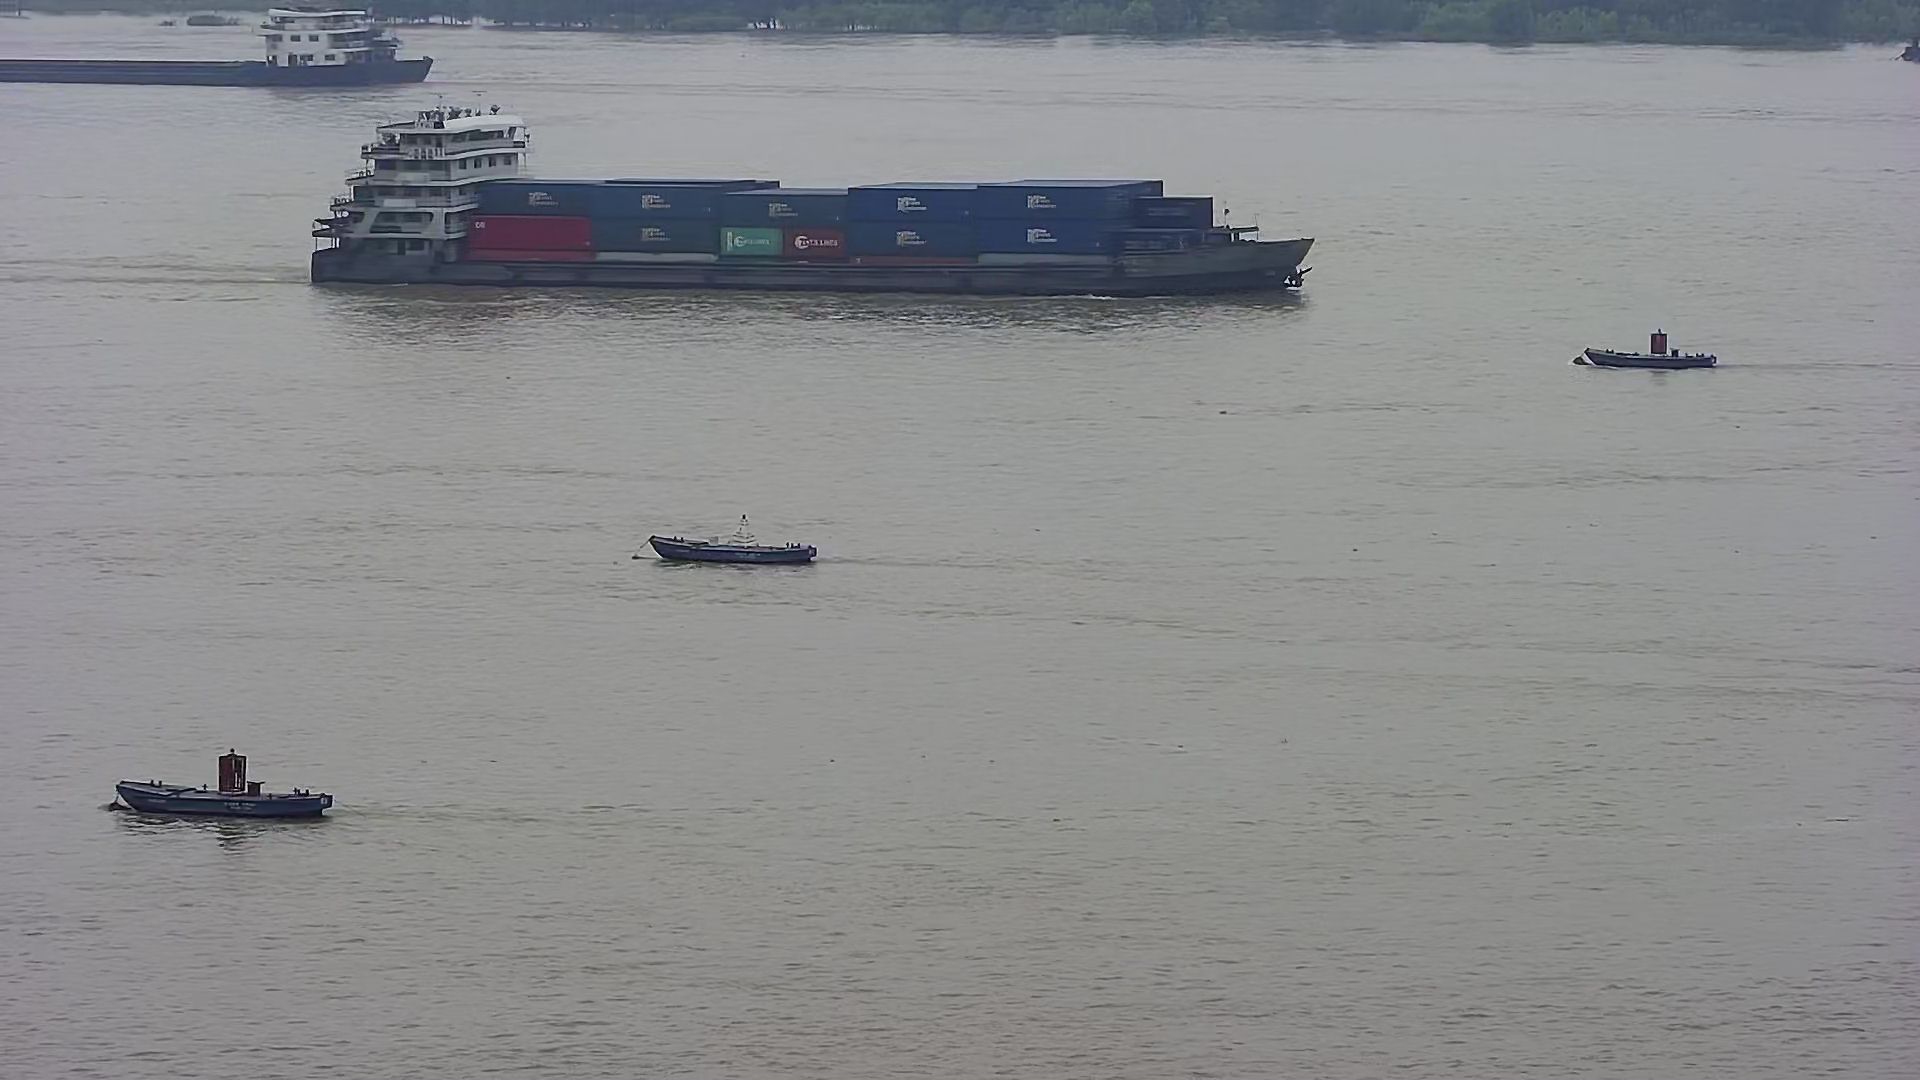boat: (104, 738, 344, 829), (633, 509, 828, 574), (1564, 305, 1727, 377)
ship: (287, 88, 1325, 305), (1, 1, 450, 91)
